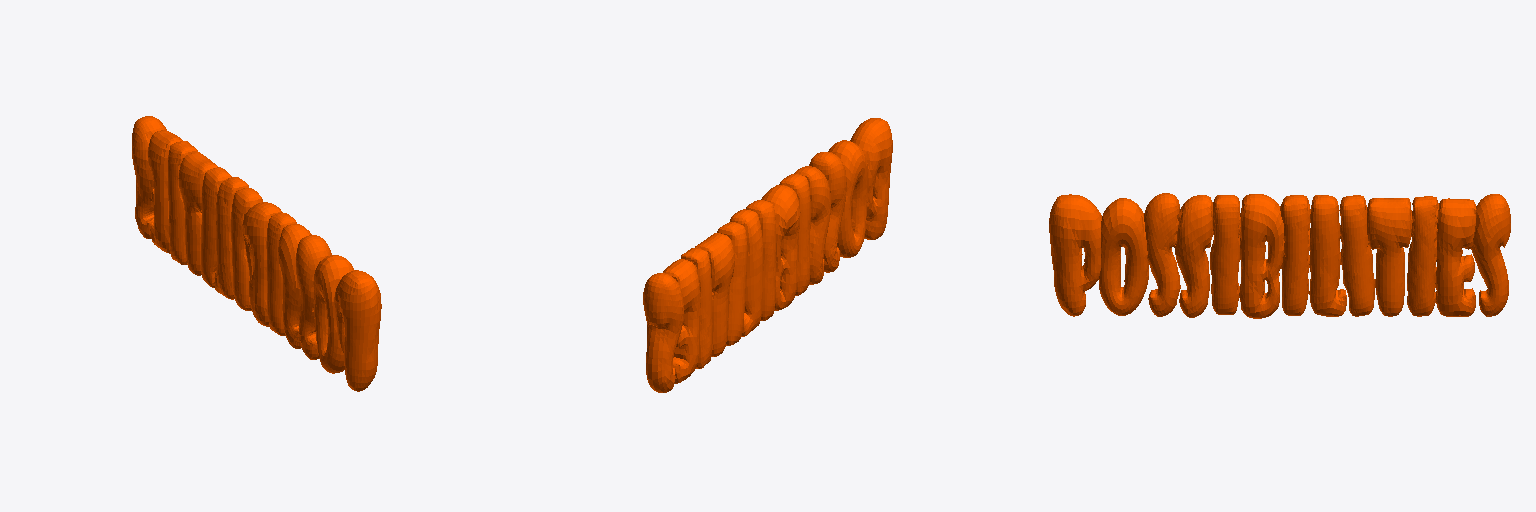
Rendered from 09_possiblities.obj.
3 views of the same model, side by side, from view 1: azimuth 30°, elevation 25°; view 2: azimuth 150°, elevation 25°; view 3: azimuth 270°, elevation 25° (orthographic).
Visible parts, largest first — view 1: _possiblities:possiblitiespolySurface93polySurface88polySurface8; view 2: _possiblities:possiblitiespolySurface93polySurface88polySurface8; view 3: _possiblities:possiblitiespolySurface93polySurface88polySurface8.
Part boxes in pixels (bbox=[...]): _possiblities:possiblitiespolySurface93polySurface88polySurface8: bbox=[132, 116, 381, 391]; _possiblities:possiblitiespolySurface93polySurface88polySurface8: bbox=[643, 118, 892, 392]; _possiblities:possiblitiespolySurface93polySurface88polySurface8: bbox=[1049, 193, 1510, 318].
Size of the model in its own units: 0.1153 by 0.3582 by 1.23.